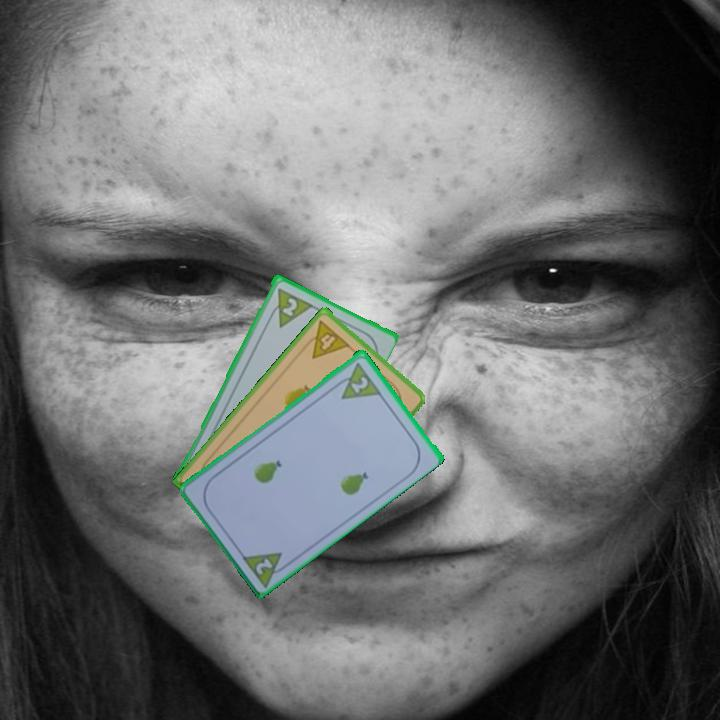2p: (264, 284, 314, 330), (347, 372, 371, 396), (252, 554, 276, 577)
4p: (299, 316, 353, 361)
